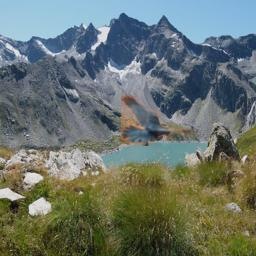Crow: (121, 95, 197, 146)
